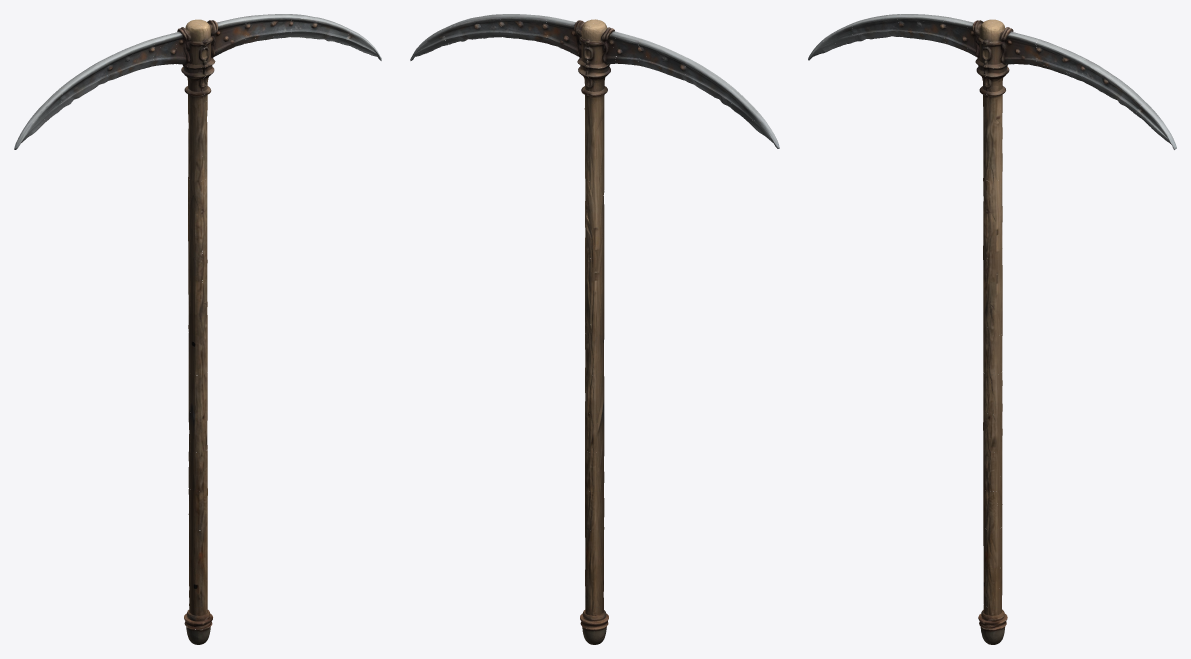
Rendered from w_rust_executioner.glb.
3 views of the same model, side by side, from view 1: azimuth 30°, elevation 25°; view 2: azimuth 150°, elevation 25°; view 3: azimuth 330°, elevation 25° (orthographic).
Visible parts, largest first — view 1: geometry_0; view 2: geometry_0; view 3: geometry_0.
Part boxes in pixels (x1,y1,x2,y2): geometry_0: (14, 14, 381, 644); geometry_0: (410, 14, 779, 644); geometry_0: (808, 14, 1176, 644).
Size of the model in its own units: 1.18 by 1.9 by 0.0933.
Materials: 1 (1 with a texture image).
